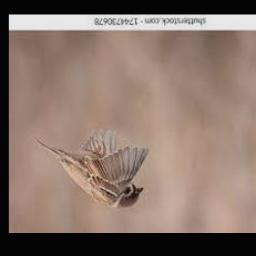Sparrow: (35, 128, 149, 209)
